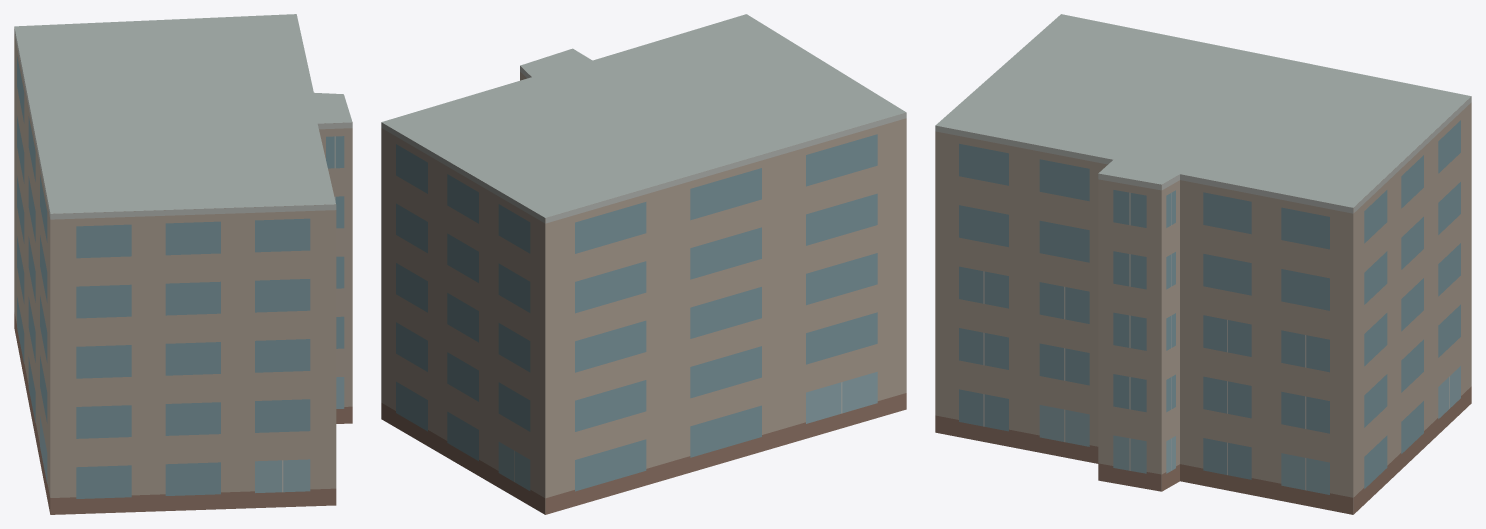
File: survey-upis-32875034.glb
3 renders of one model, left to right at view 1: azimuth 30°, elevation 25°; view 2: azimuth 150°, elevation 25°; view 3: azimuth 270°, elevation 25°, orthographic. The views are drawn at different scales.
Parts seen in each view (by area): view 1: survey-upis-32875034.tmp; view 2: survey-upis-32875034.tmp; view 3: survey-upis-32875034.tmp.
Part boxes in pixels (bbox=[...]): survey-upis-32875034.tmp: bbox=[14, 14, 352, 514]; survey-upis-32875034.tmp: bbox=[381, 14, 906, 514]; survey-upis-32875034.tmp: bbox=[935, 14, 1471, 514].
Size of the model in its own units: 17.34 by 12.8 by 20.28.
